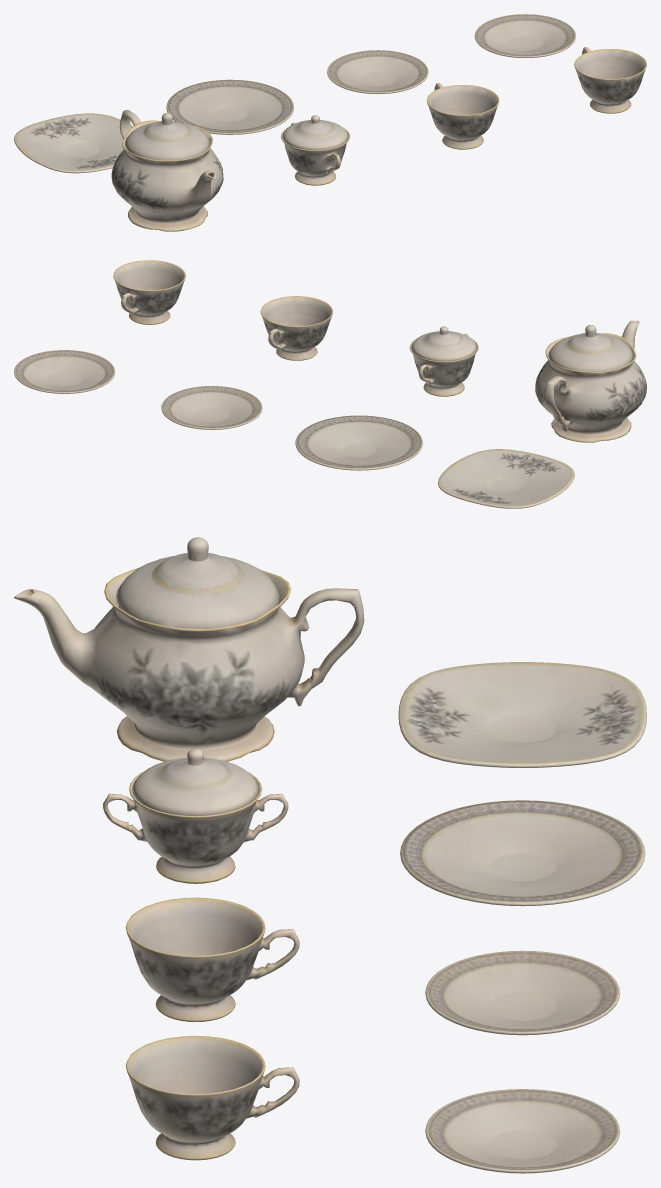
Rendered from tea-set.glb.
3 renders of one model, top to bottom at view 1: azimuth 30°, elevation 25°; view 2: azimuth 150°, elevation 25°; view 3: azimuth 270°, elevation 25°, orthographic. The views are drawn at different scales.
Visible parts, largest first — view 1: tea_set_01_plate_large_square_01; view 2: tea_set_01_plate_large_square_01; view 3: tea_set_01_plate_large_square_01.
Part boxes in pixels (x1,y1,x2,y2): tea_set_01_plate_large_square_01: (14,14,646,231); tea_set_01_plate_large_square_01: (14,260,646,508); tea_set_01_plate_large_square_01: (14,537,646,1173).
Bounding box in the file's own units: 0.9185 × 0.1649 × 0.4839.
1 material, 1 textured.
